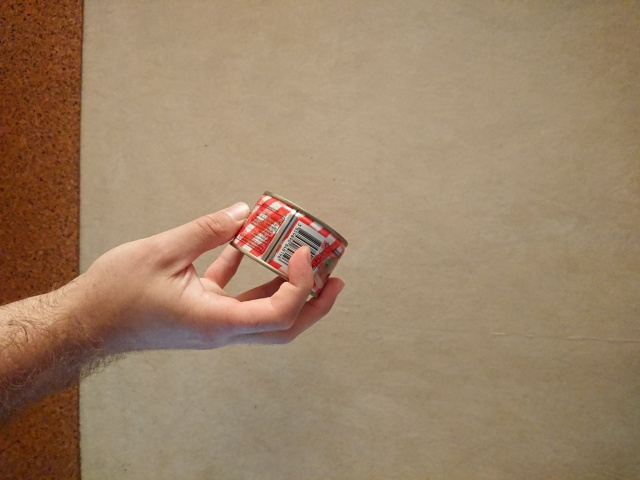Podravka Luncheon Meat 150g: (227, 188, 350, 302)
